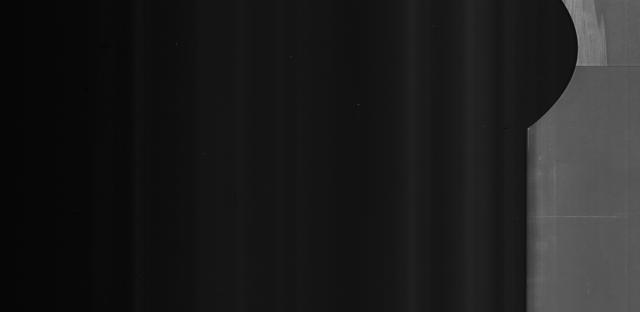crescent_gap: (490, 0, 596, 135)
welding_line: (558, 54, 640, 72)
